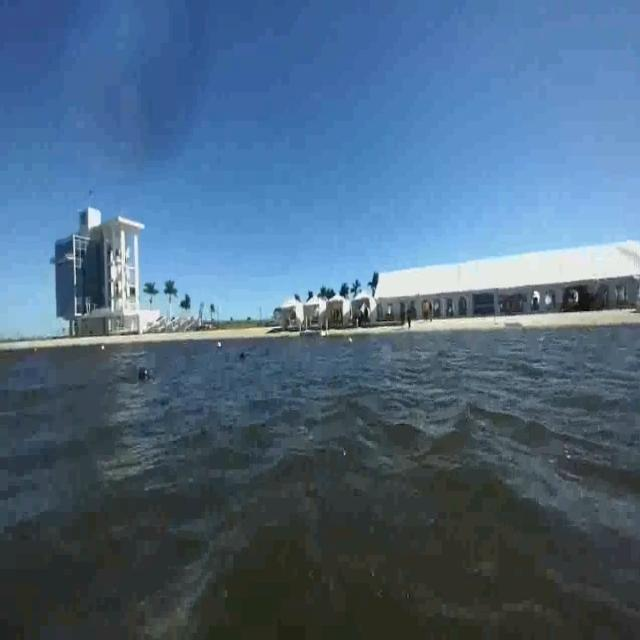black-buoy: (138, 363, 150, 383)
